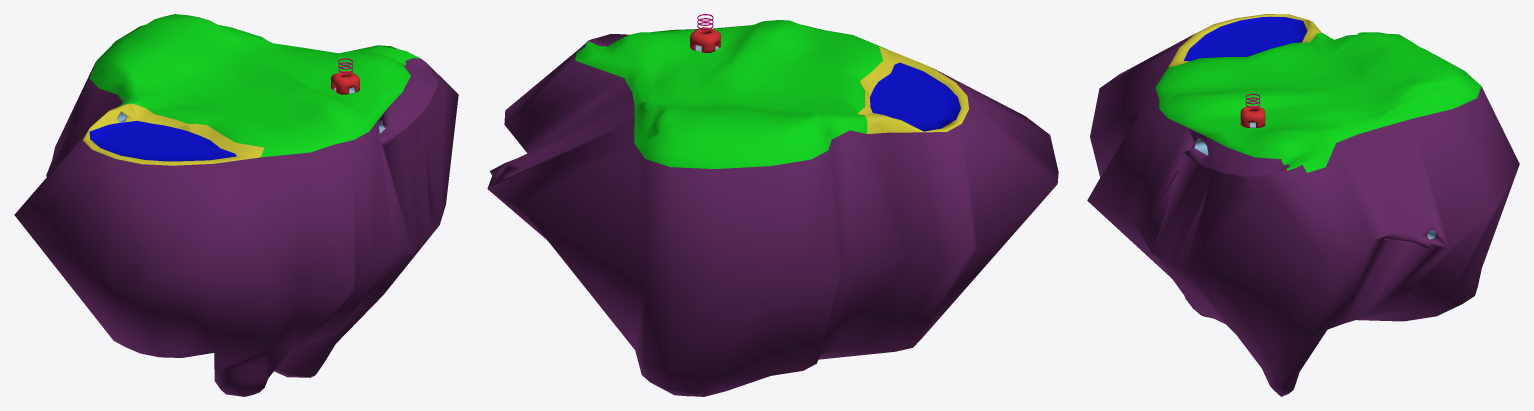
The model's file is Floating Island.fbx.
3 renders of one model, left to right at view 1: azimuth 30°, elevation 25°; view 2: azimuth 150°, elevation 25°; view 3: azimuth 270°, elevation 25°, orthographic. The views are drawn at different scales.
Visible parts, largest first — view 1: Cylinder; view 2: Cylinder; view 3: Cylinder.
Boxes of the visible parts, x1,y1,x2,y2 form: Cylinder: (14, 14, 458, 396); Cylinder: (487, 14, 1058, 396); Cylinder: (1087, 14, 1519, 396).
Size of the model in its own units: 3930 by 2738 by 3490.
